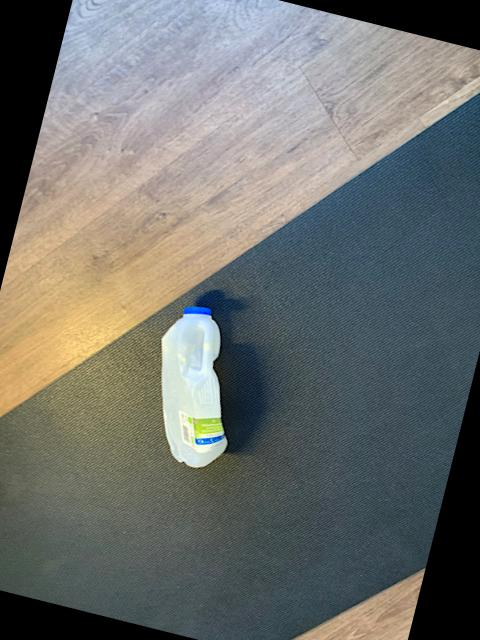plastic: (160, 307, 225, 468)
